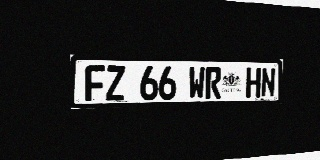6: (140, 66, 158, 100), (159, 66, 176, 100)
F: (85, 65, 105, 101)
H: (246, 67, 261, 98)
N: (261, 67, 276, 98)
R: (205, 67, 222, 99)
W: (188, 67, 205, 99)
Z: (106, 66, 125, 101)
